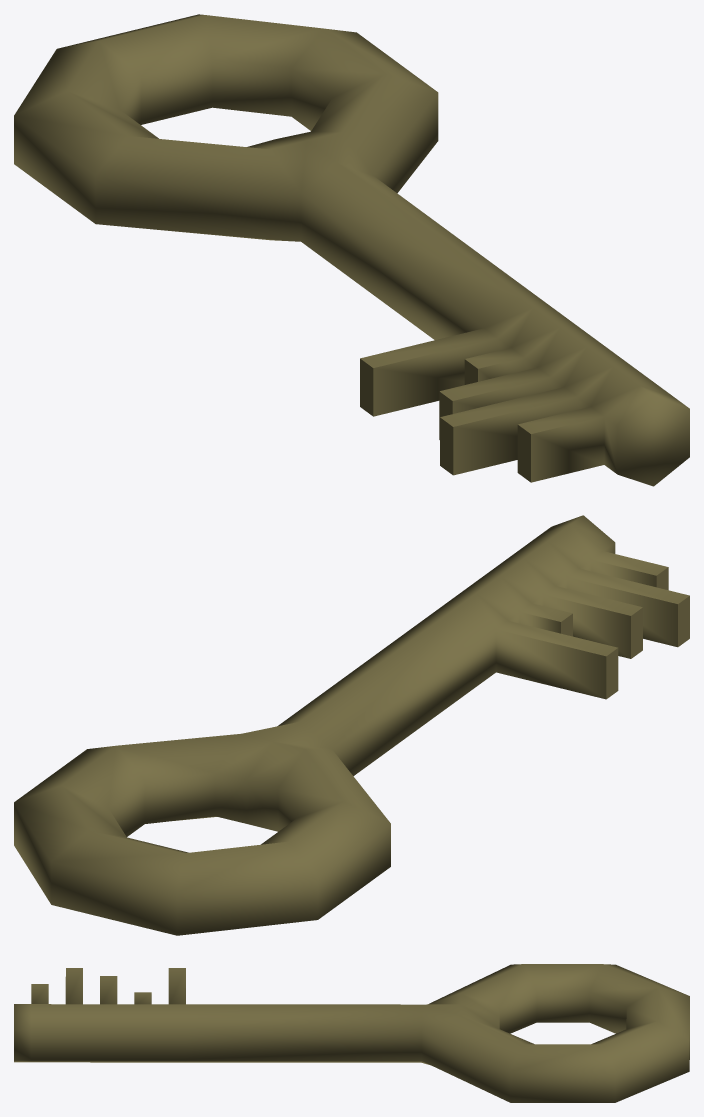
The model's file is key.obj.
The picture shows the model from 3 angles, top to bottom: view 1: azimuth 30°, elevation 25°; view 2: azimuth 150°, elevation 25°; view 3: azimuth 270°, elevation 25°; orthographic projection. The views are drawn at different scales.
Parts seen in each view (by area): view 1: Tube001; view 2: Tube001; view 3: Tube001.
Part boxes in pixels (bbox=[...]): Tube001: bbox=[14, 14, 689, 486]; Tube001: bbox=[14, 515, 689, 935]; Tube001: bbox=[14, 964, 689, 1102].
Size of the model in its own units: 3.7 by 0.9376 by 9.85.
Materials: 1 (1 with a texture image).
